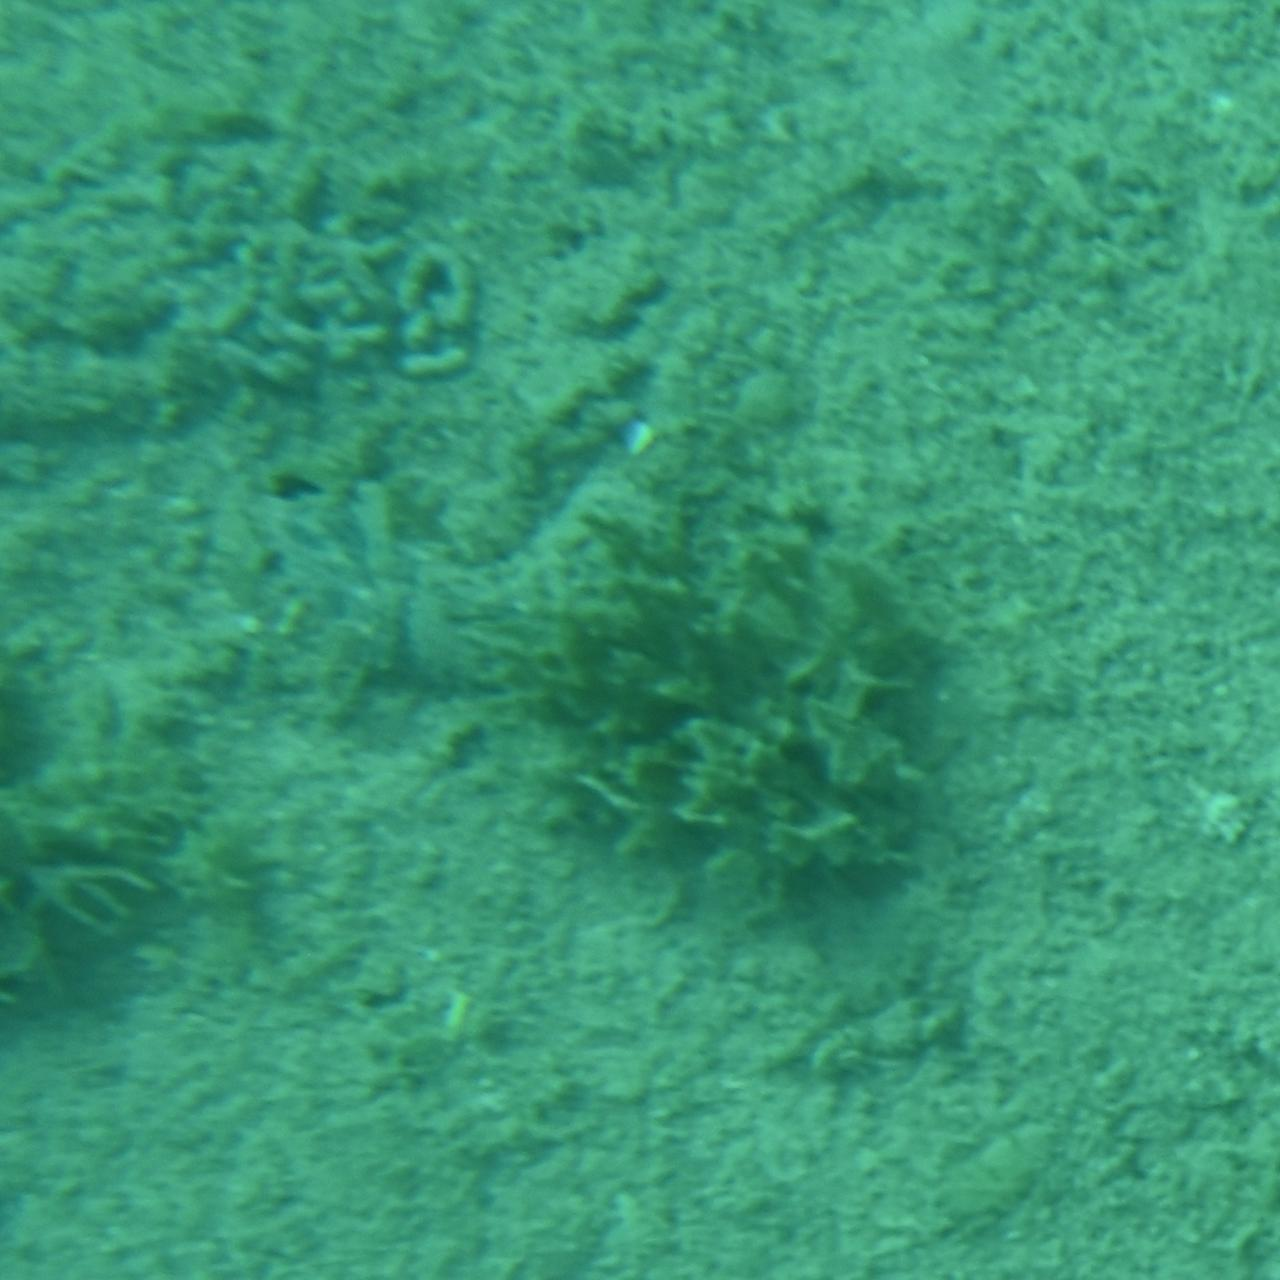Holothuria tubulosa: (333, 403, 729, 721)
Phaeophyceae -cfr Cystoseira-: (530, 503, 968, 935)
